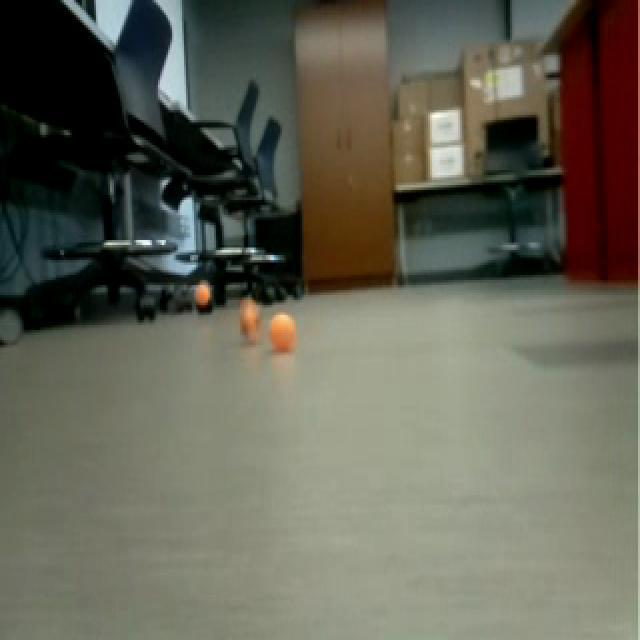oball: (268, 310, 296, 350), (239, 299, 262, 337), (190, 277, 213, 307)
